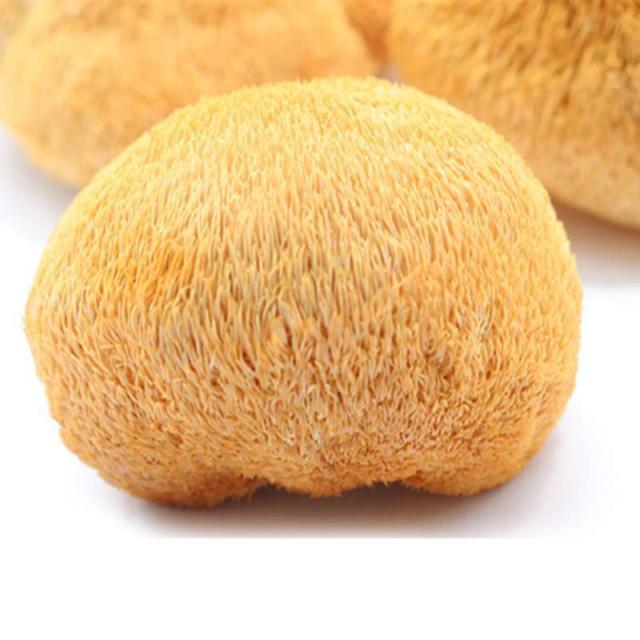Hericium erinaceus: (28, 80, 579, 511), (0, 0, 374, 186), (388, 4, 639, 237)
